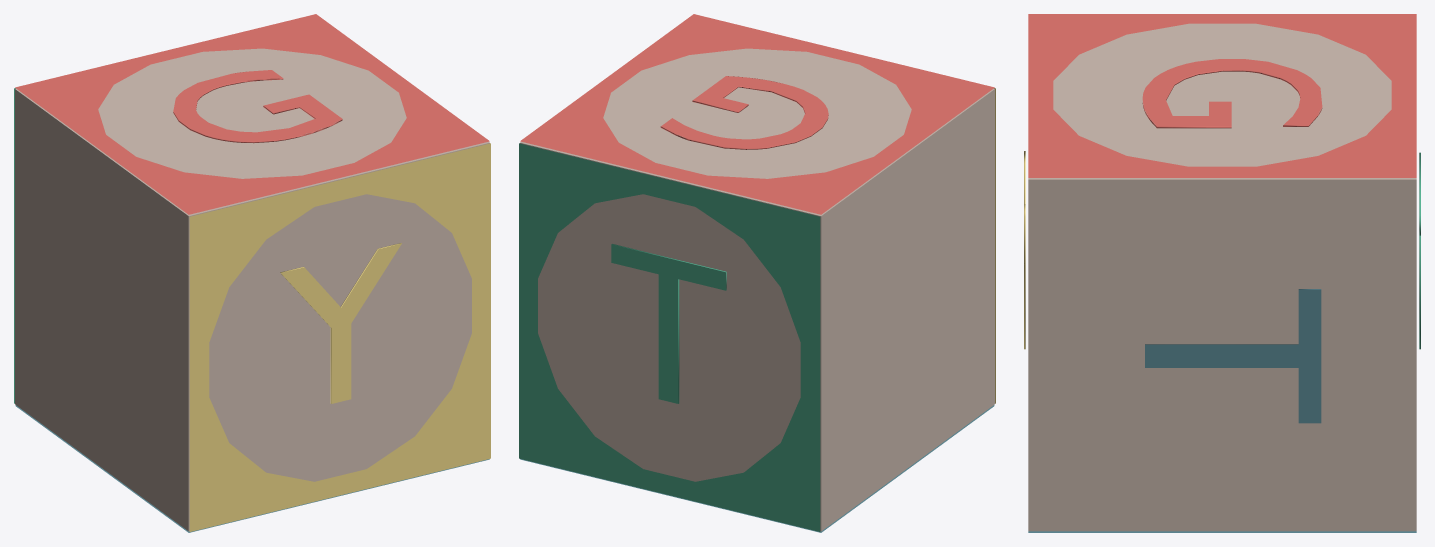
3 views of the same model, side by side, from view 1: azimuth 30°, elevation 25°; view 2: azimuth 150°, elevation 25°; view 3: azimuth 270°, elevation 25° (orthographic). The views are drawn at different scales.
Parts seen in each view (by area): view 1: cube; view 2: cube; view 3: cube.
Part boxes in pixels (left/top/right/bottom): cube: left=14, top=14, right=490, bottom=532; cube: left=519, top=14, right=995, bottom=532; cube: left=1024, top=14, right=1420, bottom=532.
Size of the model in its own units: 0.0453 by 0.046 by 0.046.
